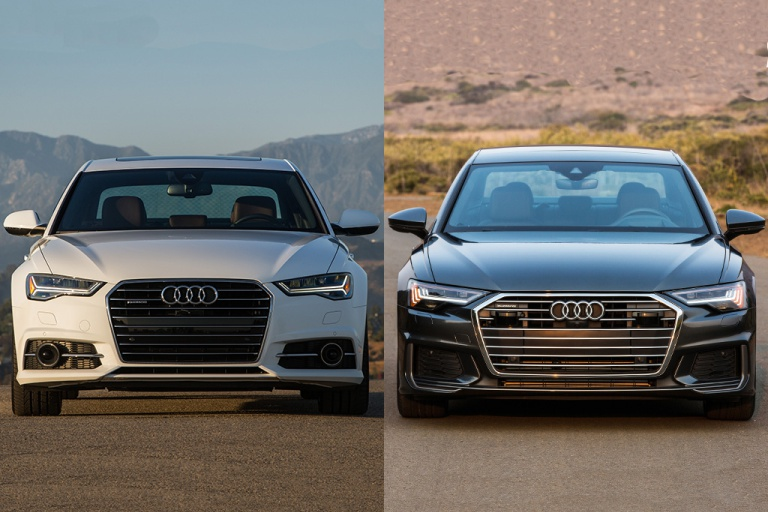audi: (152, 282, 226, 309), (541, 300, 608, 324)
